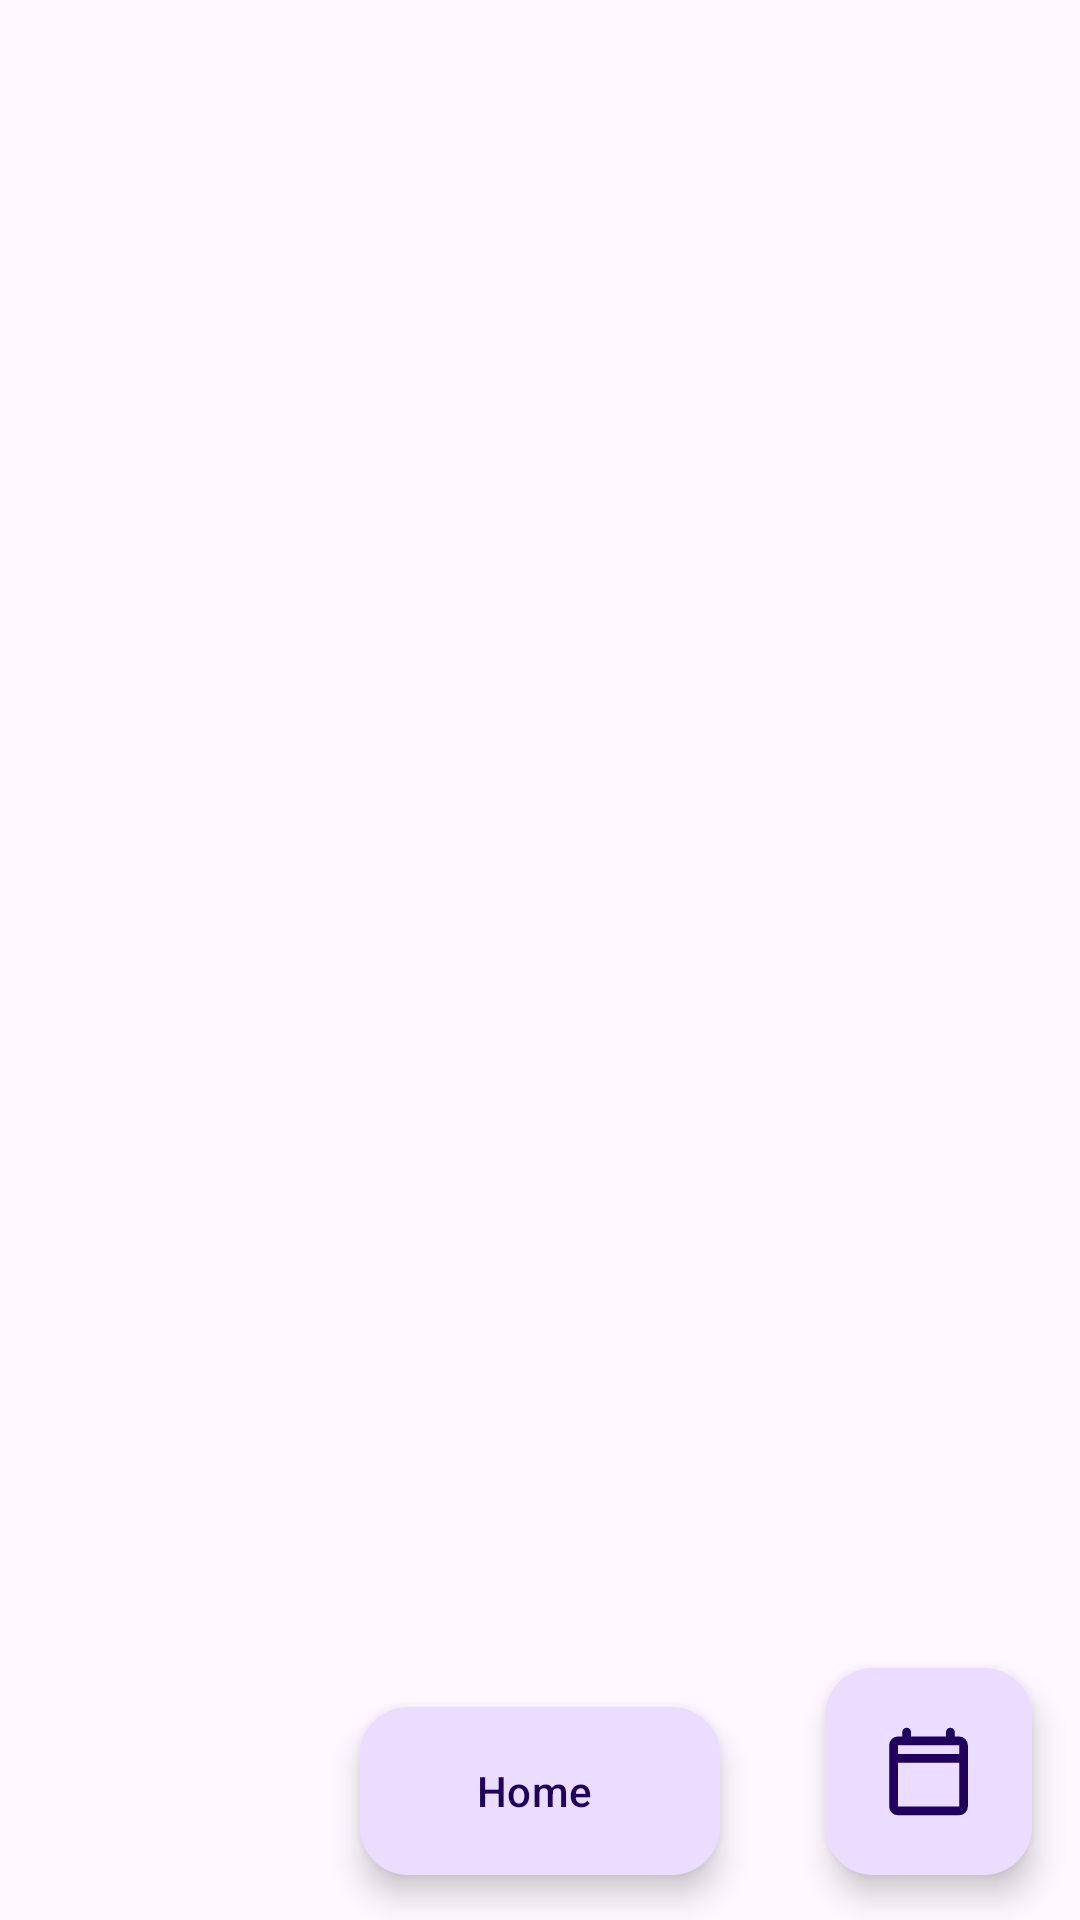

Locate icon controls on the screen. Image size 1080*1920, boxes as (left=x1, top=y1, right=x2, bottom=y2).
calendar today: (left=825, top=1668, right=1032, bottom=1875)
